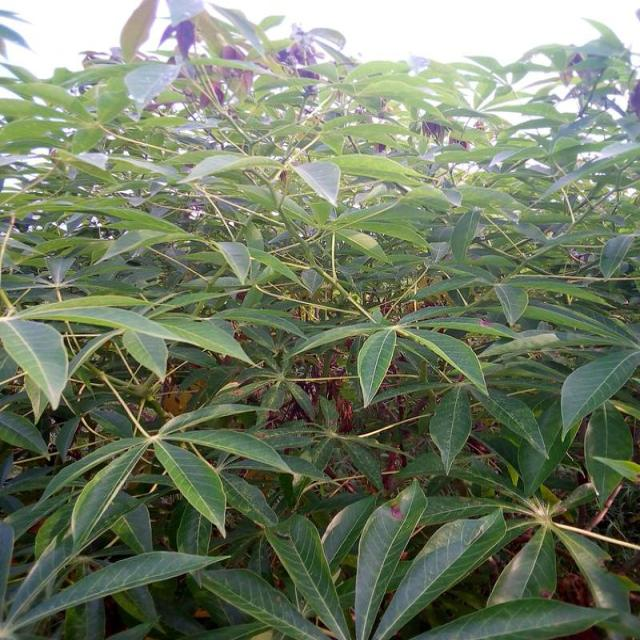cassava leaf: (2, 2, 639, 638), (358, 326, 398, 408)
